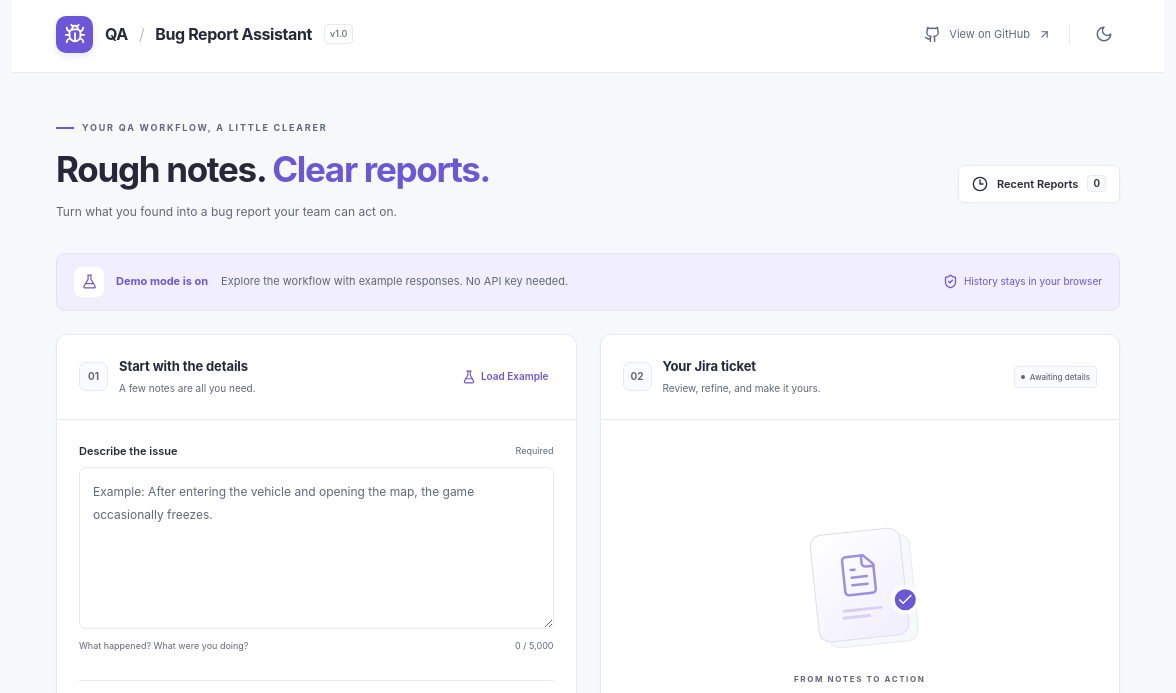
it: report workflow › keeps notes and restores button after API errors
The image size is (1176, 693).
Click the button "Load Example" at (505, 377), box x1=457 y1=364 x2=554 y2=389
(page scrolled)
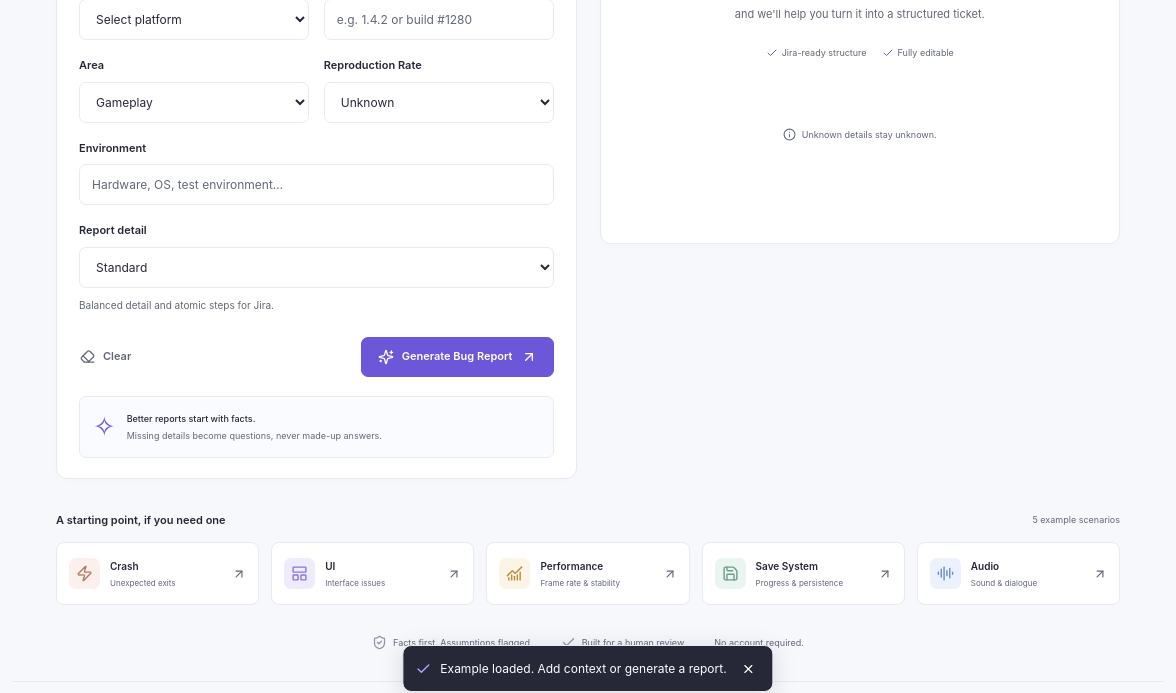
Click the button "Generate Bug Report" at (457, 357), box x1=361 y1=337 x2=554 y2=377
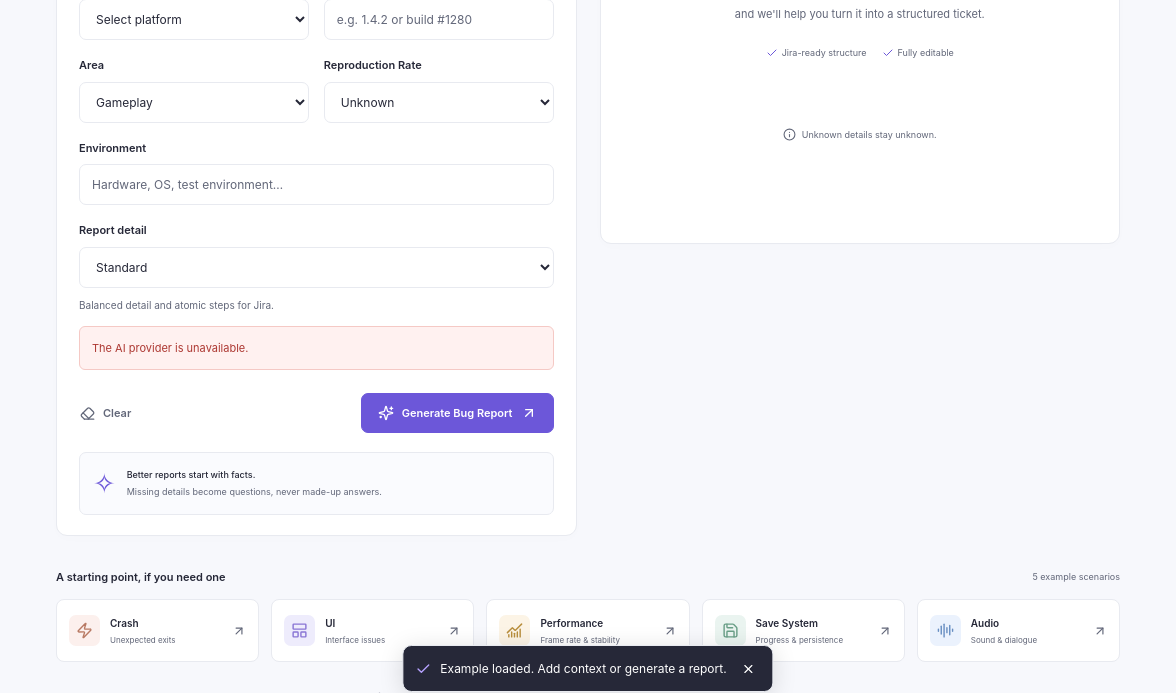
Expected: the button "Generate Bug Report" is enabled, x1=361 y1=393 x2=554 y2=433
Expected: the message "The AI provider is unavailable." is shown, x1=79 y1=326 x2=554 y2=370
